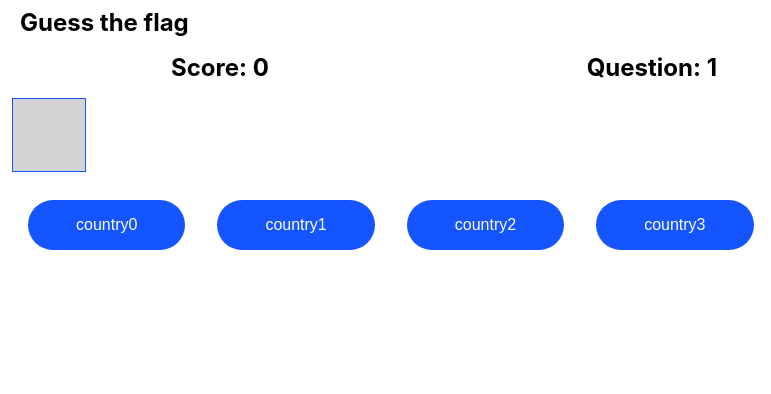
<Game /> › should handle clicking a correct answer
Expected: the heading with test id "score" reads "Score: 0", [171, 53, 269, 82]
Expected: the heading with test id "question-count" reads "Question: 1", [587, 53, 717, 82]
Click the button with test id "button 0" at (107, 225), box [28, 200, 185, 250]
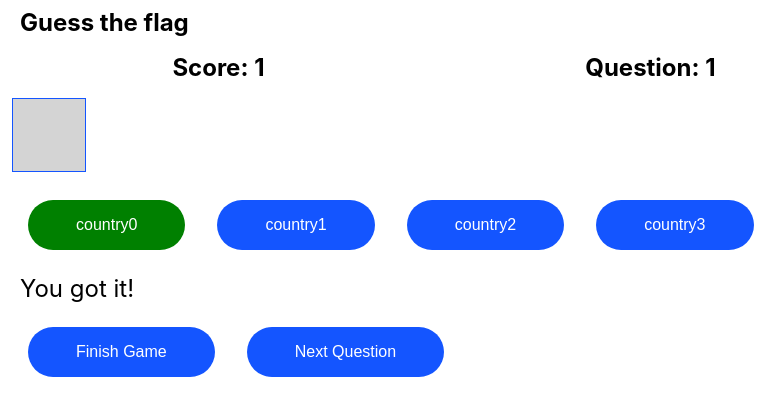
Expected: the text with test id "guess-answer-message" reads "You got it!", [20, 274, 134, 303]
Expected: the heading with test id "score" reads "Score: 1", [172, 53, 264, 82]
Expected: the element with test id "guess-result" is shown, [20, 274, 444, 377]
